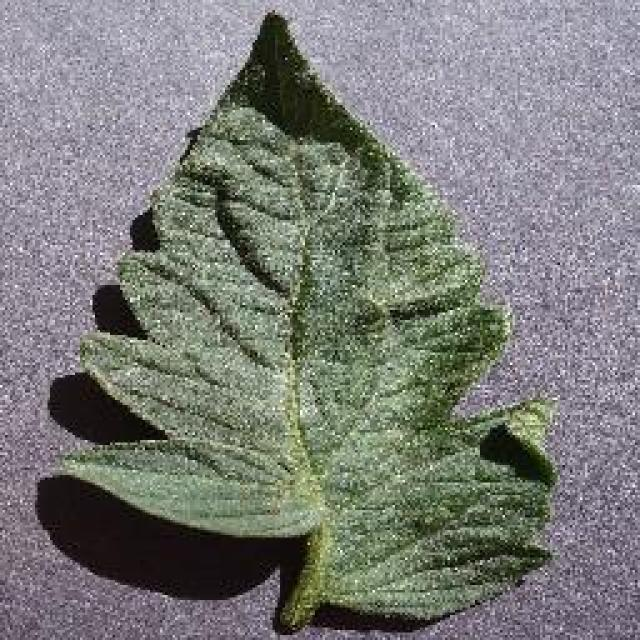Healthy: (52, 0, 572, 640)
